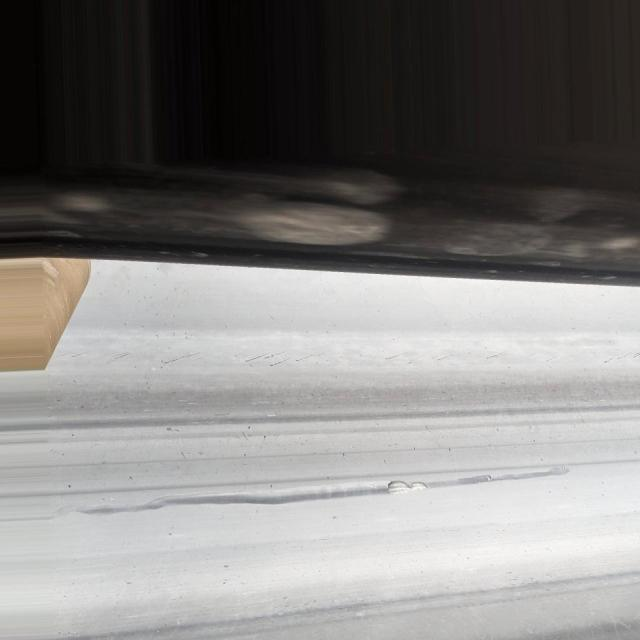Tear: (383, 478, 431, 495)
impact damage: (77, 455, 571, 524)
